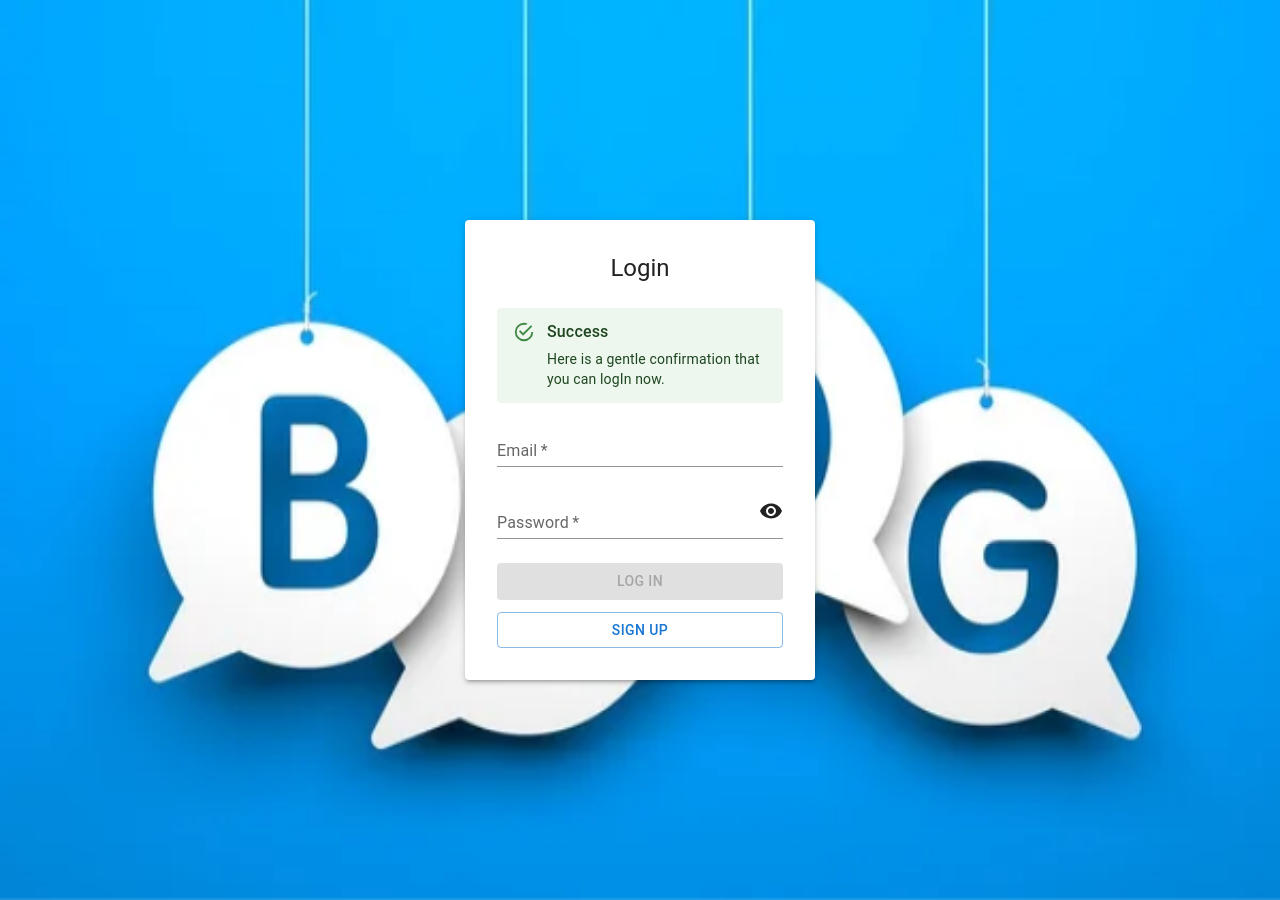
Scenario: LoginPage Component › button becomes enabled with valid inputs and touched fields
Type "validPassword123" into the password field labelled "Password *".
click(640, 523); type("validPassword123")  # box top-left (497, 507), bottom-right (783, 539)
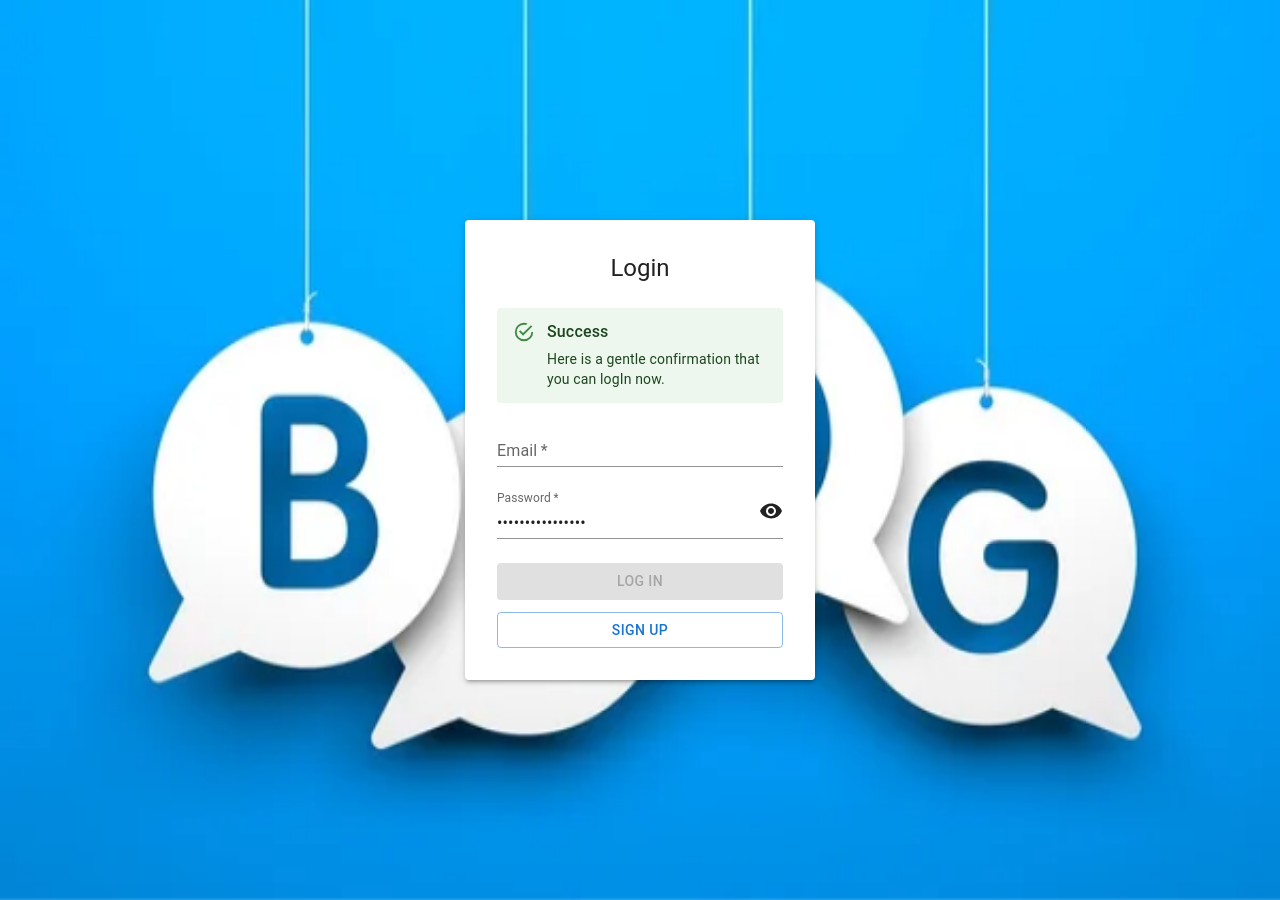
Type "test@example.com" into the field labelled "Email *".
click(640, 451); type("test@example.com")  # box top-left (497, 435), bottom-right (783, 467)
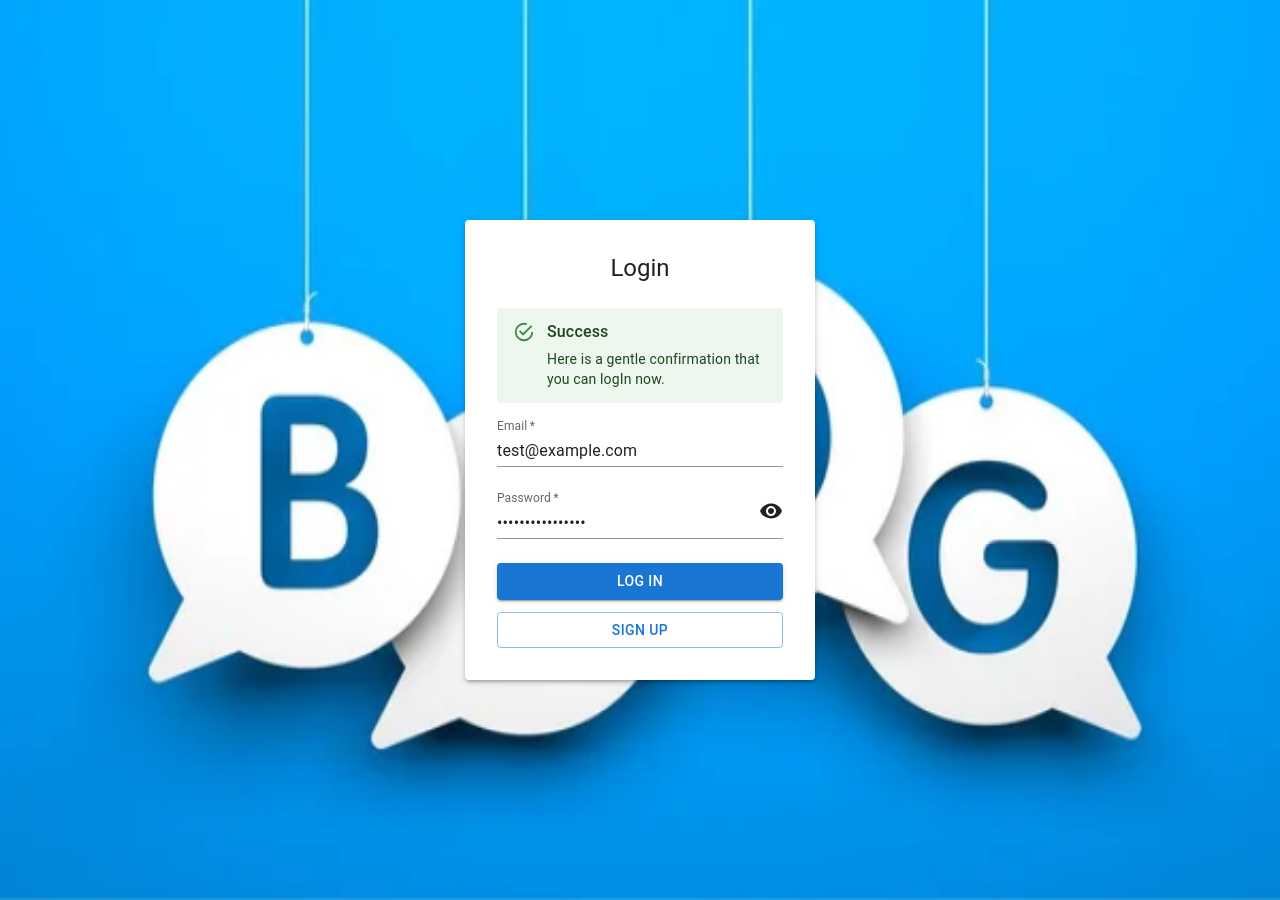
Expected: the button "Log IN" is enabled, top-left (497, 563), bottom-right (783, 600)
